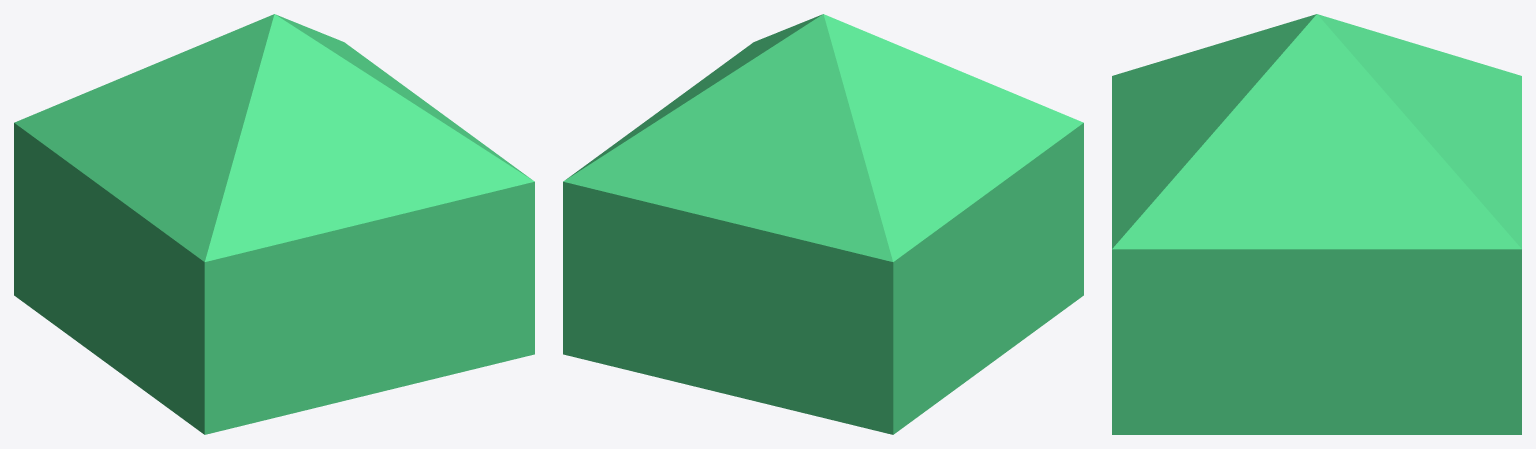
3 renders of one model, left to right at view 1: azimuth 30°, elevation 25°; view 2: azimuth 150°, elevation 25°; view 3: azimuth 270°, elevation 25°, orthographic. The views are drawn at different scales.
Bounding box in the file's own units: 2 × 1.8 × 2.
